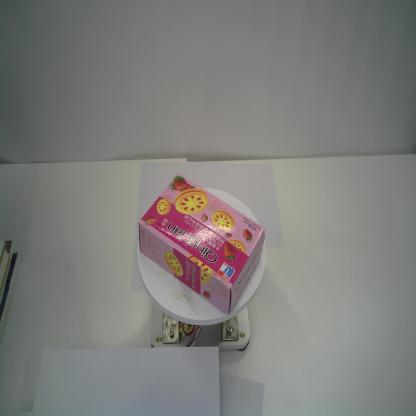Dessert: (138, 171, 266, 316)
